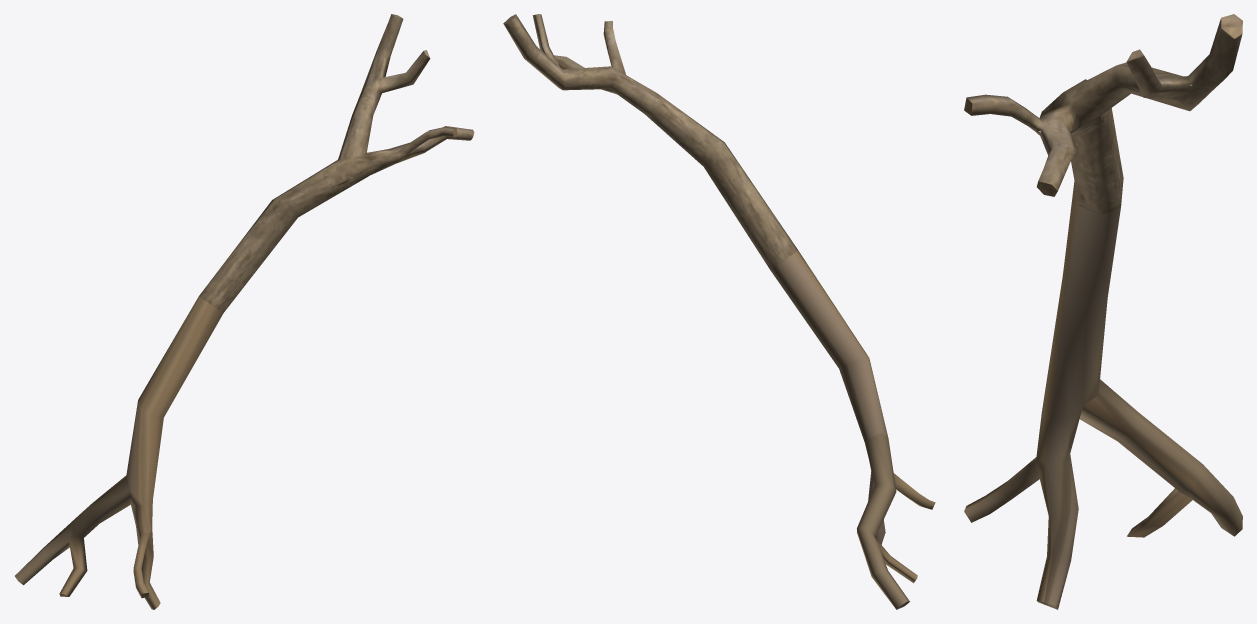
File: objects_un_dlc2_tree_dead01_05.gltf
The picture shows the model from 3 angles, left to right: view 1: azimuth 30°, elevation 25°; view 2: azimuth 150°, elevation 25°; view 3: azimuth 270°, elevation 25°; orthographic projection. The views are drawn at different scales.
Visible parts, largest first — view 1: um_objects_un_dlc2_tree_dead01_05_model_lod0Shape:objects_un; view 2: um_objects_un_dlc2_tree_dead01_05_model_lod0Shape:objects_un; view 3: um_objects_un_dlc2_tree_dead01_05_model_lod0Shape:objects_un.
Part boxes in pixels (x1,y1,x2,y2): um_objects_un_dlc2_tree_dead01_05_model_lod0Shape:objects_un: [15, 14, 474, 609]; um_objects_un_dlc2_tree_dead01_05_model_lod0Shape:objects_un: [503, 14, 935, 609]; um_objects_un_dlc2_tree_dead01_05_model_lod0Shape:objects_un: [964, 14, 1242, 609].
Size of what is drawn, in the model's own units: 9.52 by 10.87 by 3.27.
Materials: 2 (1 with a texture image).
